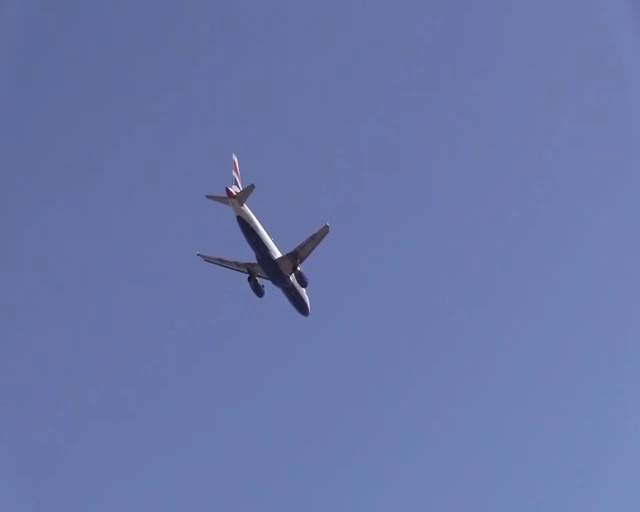AIRPLANE: (197, 151, 330, 318)
